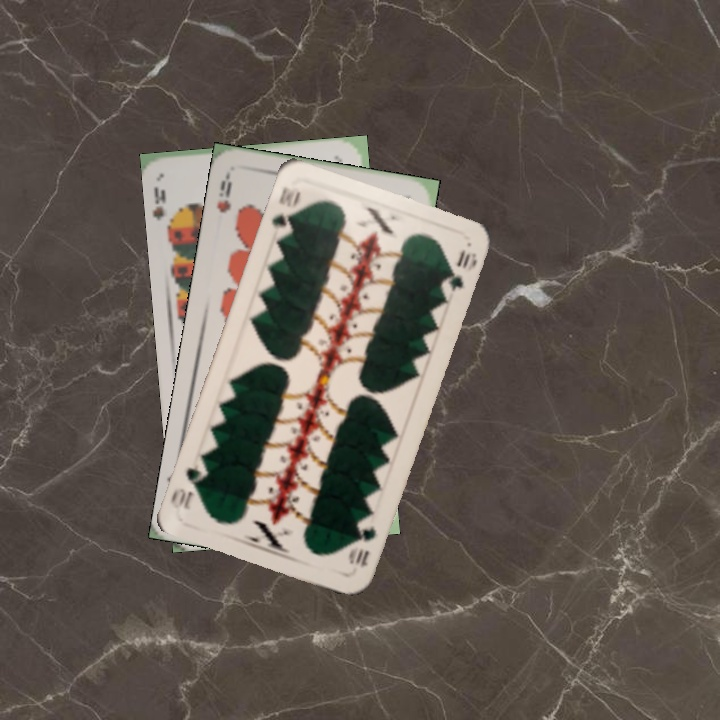G10: (267, 182, 304, 241), (344, 523, 379, 570)
H9: (212, 170, 235, 215)
S9: (150, 182, 180, 236)
